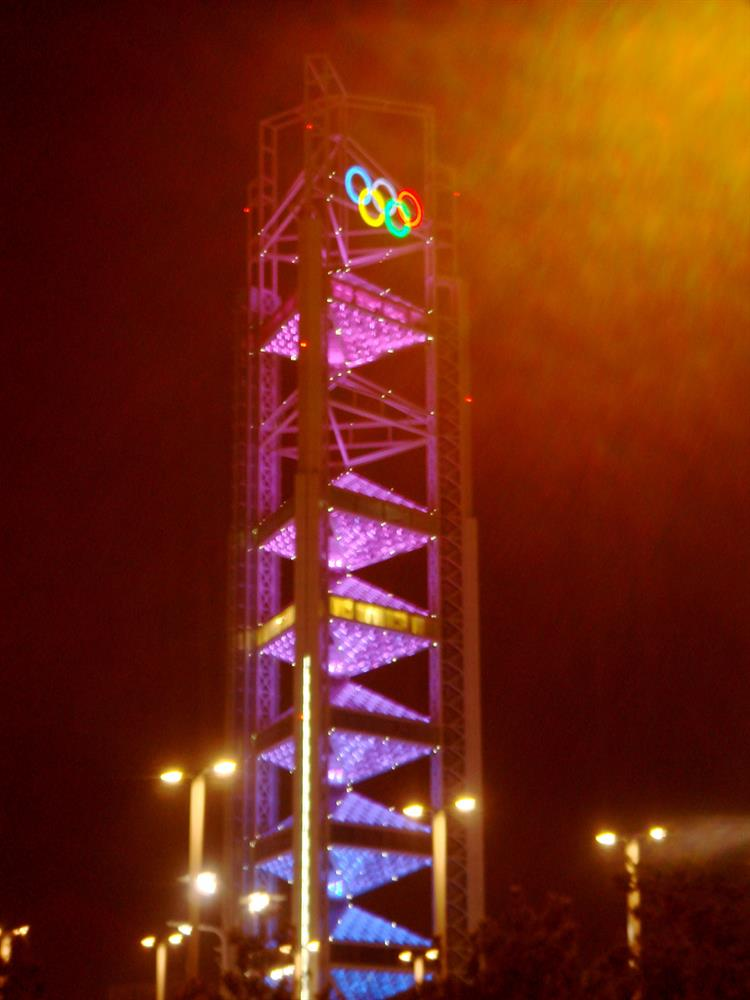LingLong_Pagoda: (216, 82, 512, 979)
